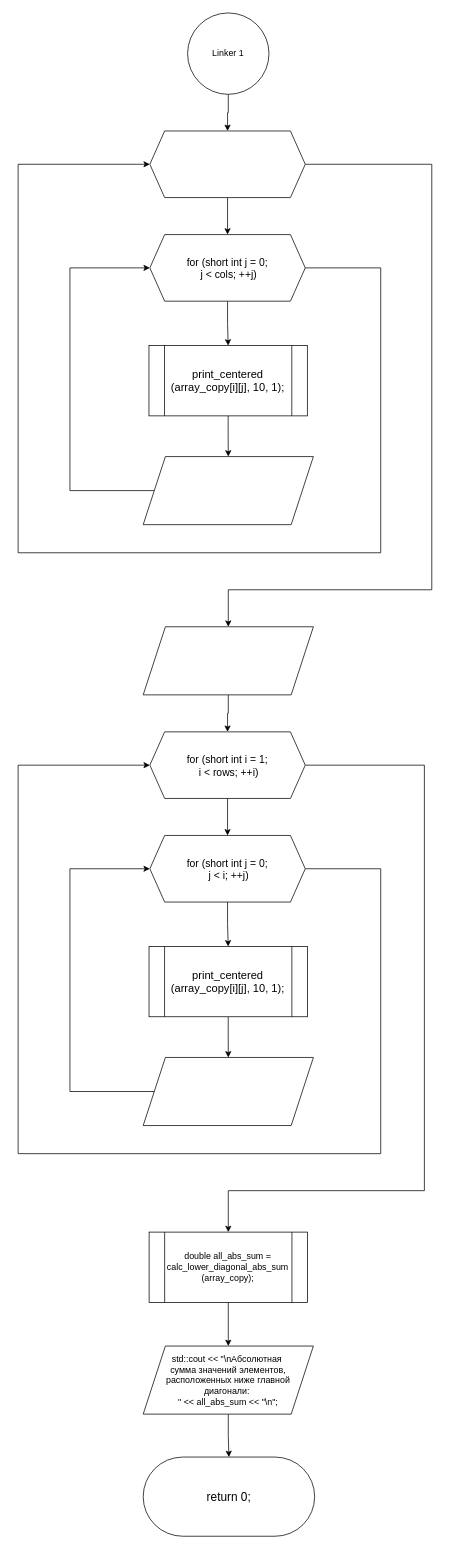
Image size: 451x1550. Some labels were removed from this diagram. The shapes that lost their labels are listed below. From the top down, each one's centre as x and y in pixels, then its label:
(227,164): for (short int i = 0; i < rows; ++i)
(227,490): std::cout << (j == cols - 1 ? "\n" : " ");
(227,660): std::cout << "\nЭлементы, находящиеся ниже главной диагонали:\n\n";
(227,1091): std::cout << (j == i - 1 ? "\n" : " ");
